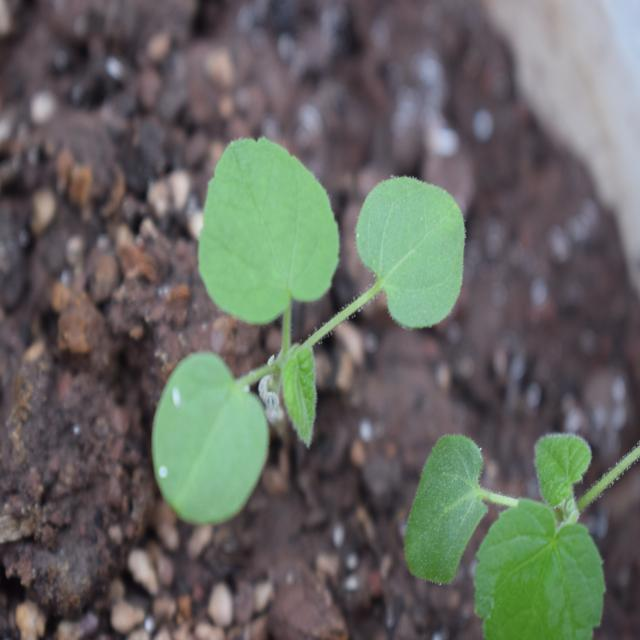abutilon theophrasti: (148, 140, 489, 556)
